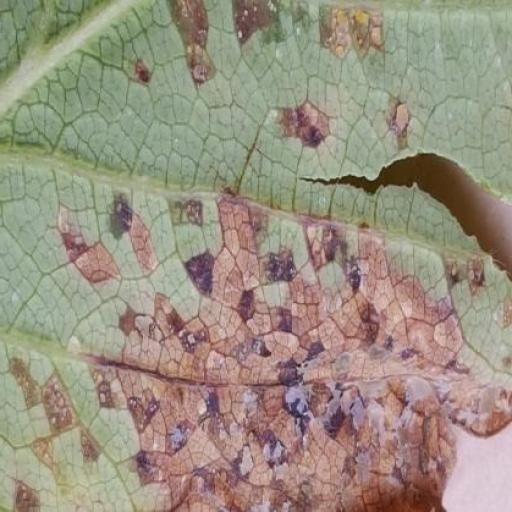Angular Leafspot: (0, 0, 508, 511)
